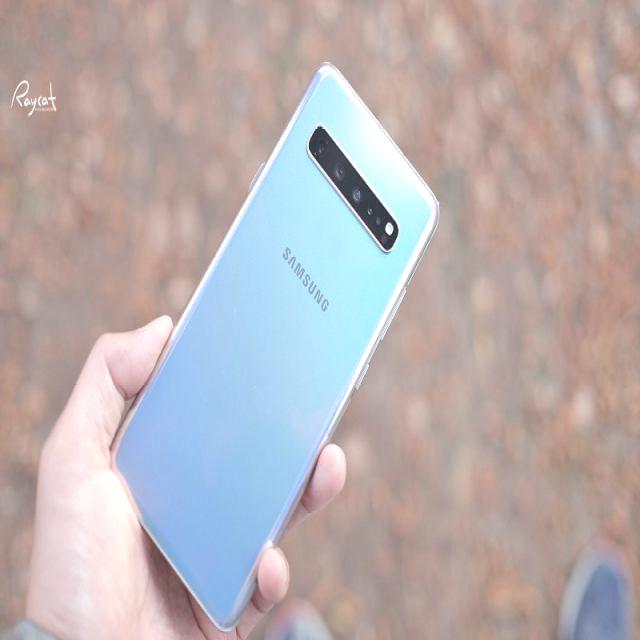lens: (309, 127, 400, 257)
phone: (117, 62, 448, 624)
